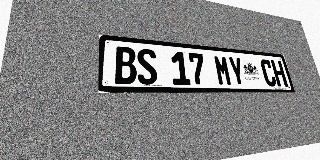1: (170, 51, 191, 85)
7: (187, 53, 208, 85)
B: (114, 46, 137, 84)
C: (259, 59, 277, 86)
H: (271, 60, 288, 87)
M: (213, 55, 233, 86)
S: (136, 48, 158, 85)
Y: (227, 56, 246, 86)
